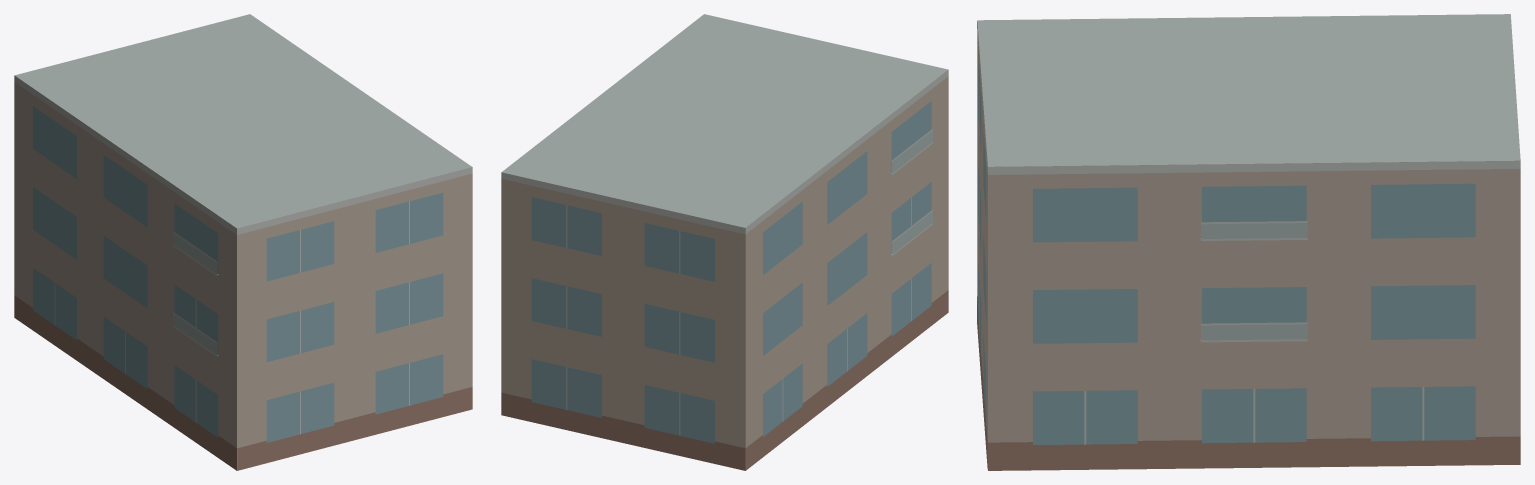
File: survey-upis-32915514.glb
3 renders of one model, left to right at view 1: azimuth 30°, elevation 25°; view 2: azimuth 150°, elevation 25°; view 3: azimuth 270°, elevation 25°, orthographic. The views are drawn at different scales.
Parts seen in each view (by area): view 1: survey-upis-32915514.tmp; view 2: survey-upis-32915514.tmp; view 3: survey-upis-32915514.tmp.
Boxes of the visible parts, box(x1,y1,x2,y2) form: survey-upis-32915514.tmp: box(14, 14, 472, 470); survey-upis-32915514.tmp: box(501, 14, 948, 470); survey-upis-32915514.tmp: box(977, 14, 1520, 470).
Bounding box in the file's own units: 9.88 × 9.15 × 14.83.
